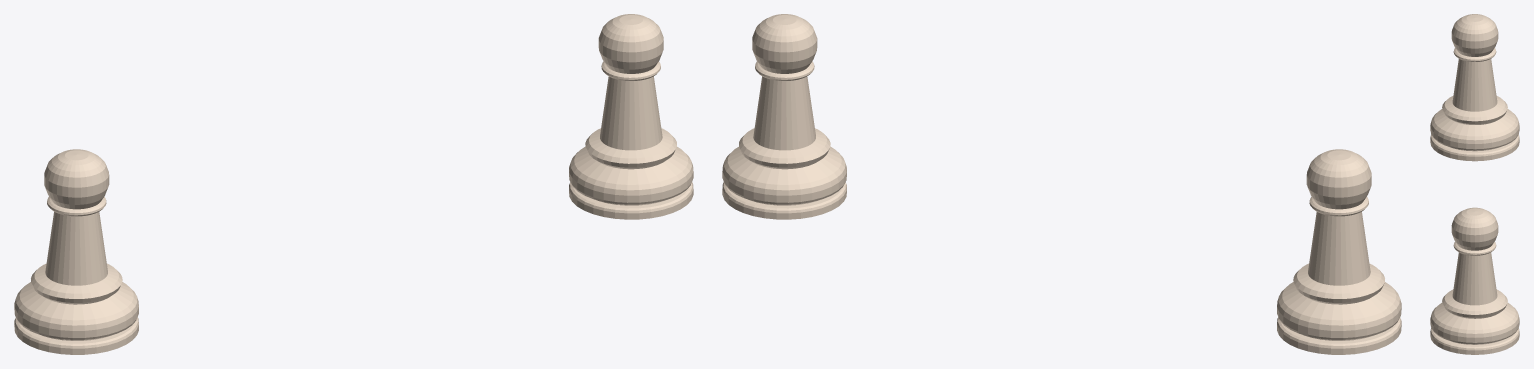
Rendered from pawn decoration1.fbx.
3 renders of one model, left to right at view 1: azimuth 30°, elevation 25°; view 2: azimuth 150°, elevation 25°; view 3: azimuth 270°, elevation 25°, orthographic. The views are drawn at different scales.
Visible parts, largest first — view 1: chess pawn.003, chess pawn.006; view 2: chess pawn.003, chess pawn.006; view 3: chess pawn.006, chess pawn.003.
Boxes of the visible parts, bbox=[...] form: chess pawn.003: bbox=[569, 14, 693, 219]; chess pawn.006: bbox=[14, 149, 138, 354]; chess pawn.003: bbox=[722, 14, 846, 219]; chess pawn.006: bbox=[1277, 149, 1401, 354]; chess pawn.006: bbox=[1430, 14, 1519, 161]; chess pawn.003: bbox=[1430, 207, 1519, 354].
Bounding box in the file's own units: 1226 × 308 × 200.
